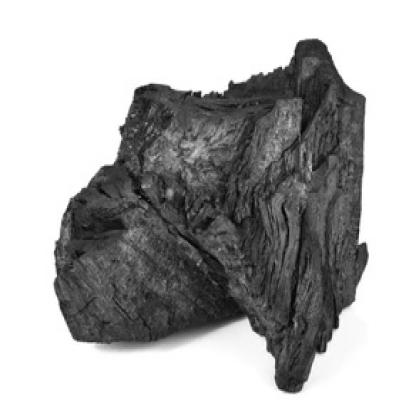Sedimentary_coal: (43, 21, 393, 402)
